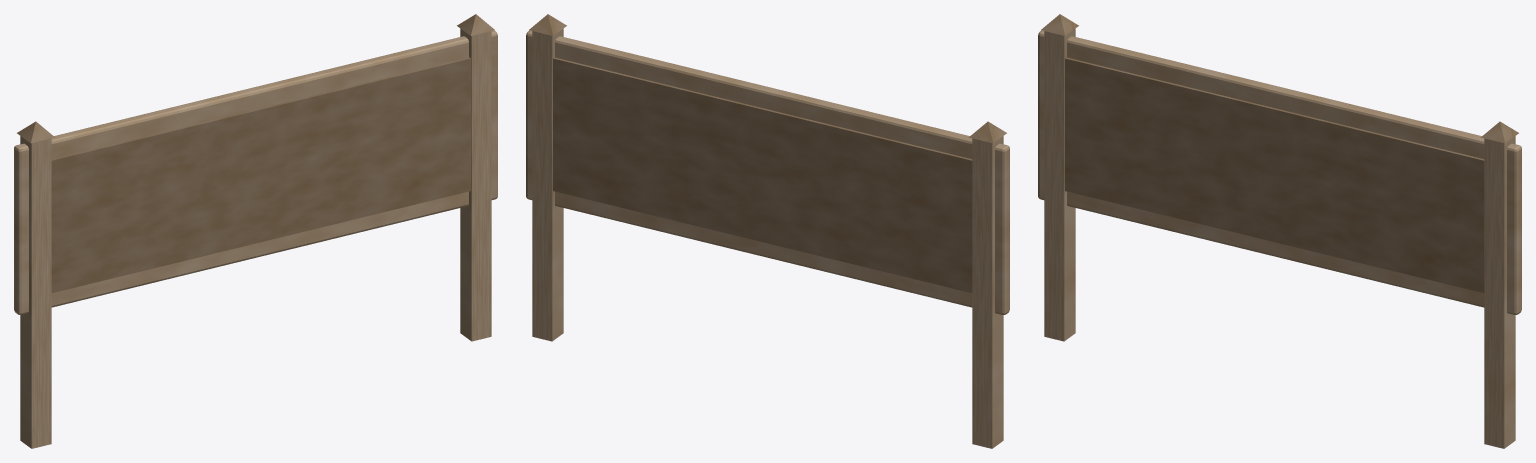
File: sign.glb
3 renders of one model, left to right at view 1: azimuth 30°, elevation 25°; view 2: azimuth 150°, elevation 25°; view 3: azimuth 330°, elevation 25°, orthographic.
Visible parts, largest first — view 1: Cube.007, Cube.005, Cube.003, Cube.004; view 2: Cube.006, Cube.005, Cube.003, Cube.004; view 3: Cube.007, Cube.005, Cube.004, Cube.003.
Part boxes in pixels (left/top/right/bottom): Cube.007: left=51, top=57, right=470, bottom=293; Cube.005: left=14, top=30, right=497, bottom=314; Cube.003: left=20, top=136, right=51, bottom=448; Cube.004: left=460, top=28, right=491, bottom=341; Cube.006: left=553, top=57, right=972, bottom=293; Cube.005: left=526, top=30, right=1009, bottom=314; Cube.003: left=972, top=136, right=1003, bottom=448; Cube.004: left=532, top=28, right=563, bottom=341; Cube.007: left=1065, top=57, right=1484, bottom=293; Cube.005: left=1038, top=30, right=1521, bottom=314; Cube.004: left=1484, top=136, right=1515, bottom=448; Cube.003: left=1044, top=28, right=1075, bottom=341.
Bounding box in the file's own units: 3.6 × 2.3 × 0.1838.
Materials: 2 (2 with a texture image).
